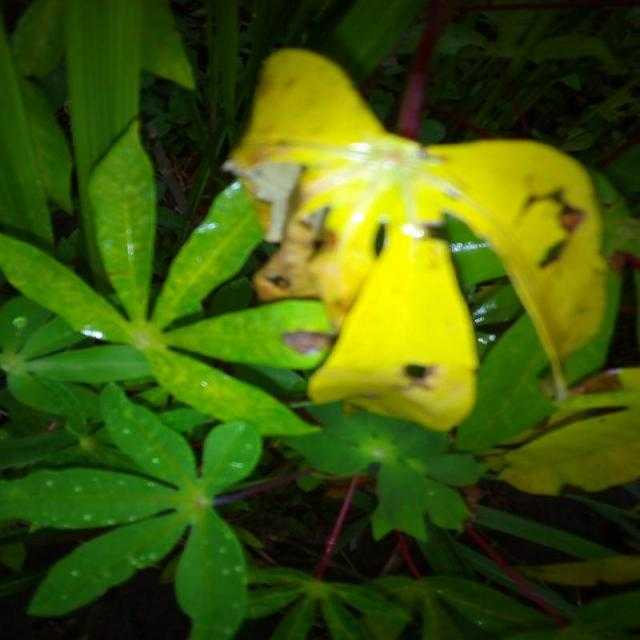cassava leaf: (221, 45, 619, 434)
